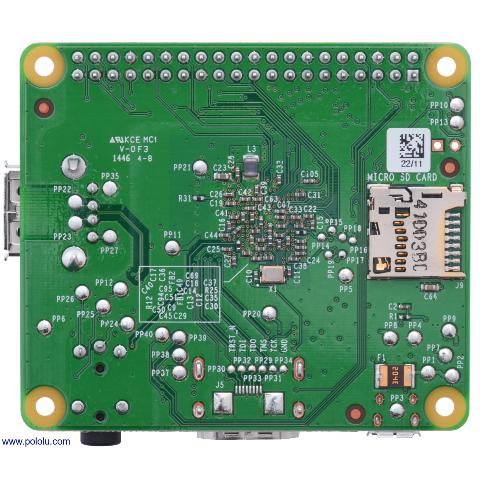Raspberry-Pi-1-Model-A-: (1, 32, 478, 446)
